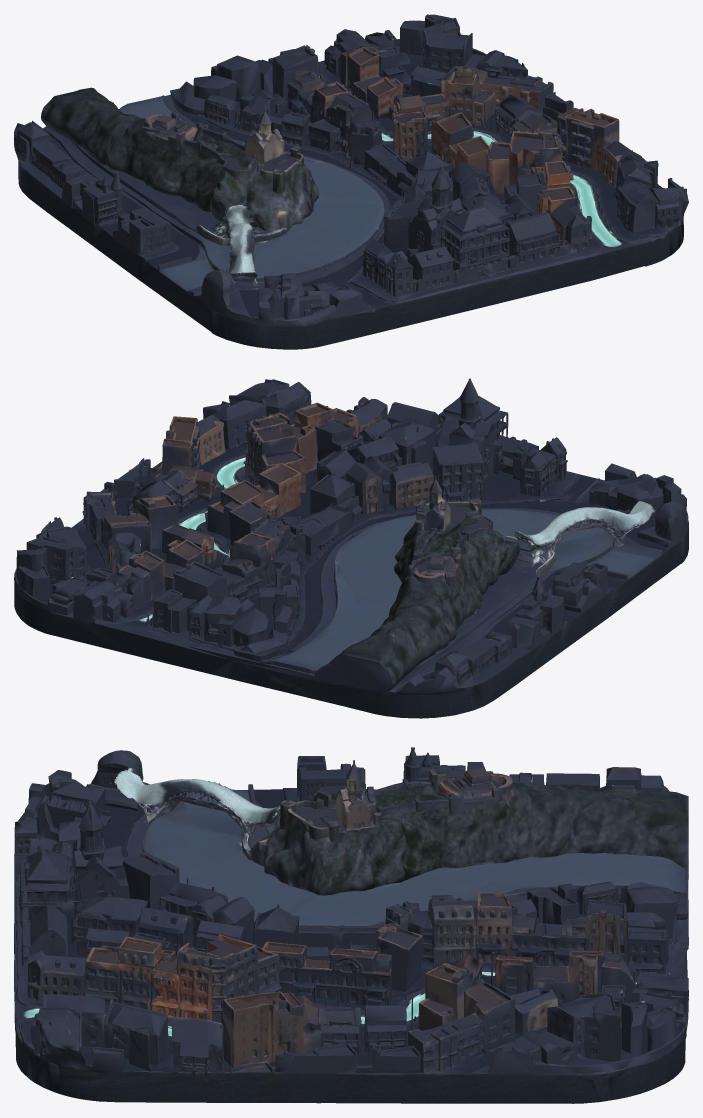
File: city.glb
3 renders of one model, top to bottom at view 1: azimuth 30°, elevation 25°; view 2: azimuth 150°, elevation 25°; view 3: azimuth 270°, elevation 25°, orthographic. The views are drawn at different scales.
Bounding box in the file's own units: 1.9 × 0.4747 × 1.9.
1 material, 1 textured.
